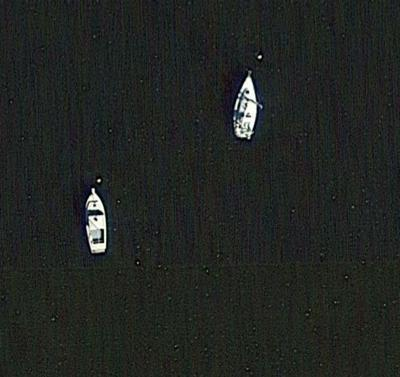Ships: (72, 178, 117, 275), (231, 65, 266, 151)
